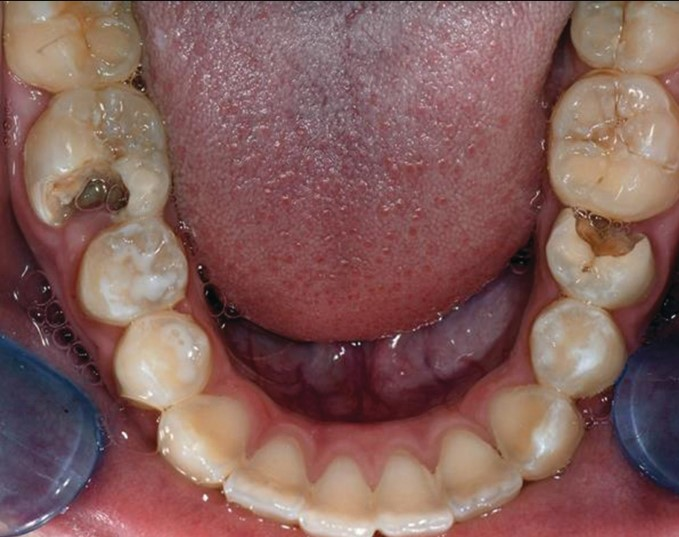LL1BC_healthy: (532, 303, 626, 394)
LL1M_healthy: (559, 83, 679, 214)
LL2BC_decay: (552, 207, 657, 303)
LL2M_healthy: (577, 1, 679, 76)
LLCI_healthy: (376, 454, 452, 535)
LLC_healthy: (497, 382, 582, 471)
LLLI_healthy: (434, 432, 525, 514)
LR1BC_healthy: (118, 318, 206, 403)
LR1M_decay: (23, 90, 170, 213)
LR2BC_healthy: (84, 233, 188, 319)
LR2M_decay: (5, 1, 145, 84)
LRCI_healthy: (309, 455, 375, 536)
LRC_healthy: (170, 399, 245, 479)
LRLI_healthy: (237, 433, 305, 518)
